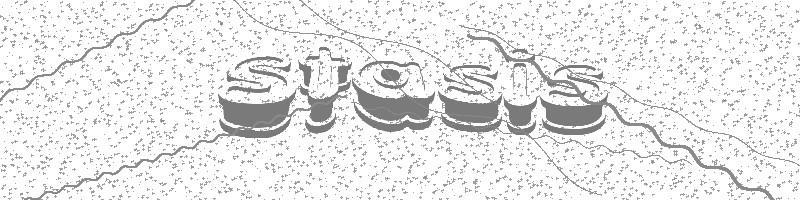a: (351, 56, 437, 134)
i: (504, 45, 538, 133)
s: (215, 51, 298, 140), (539, 61, 610, 136), (439, 61, 501, 130)
t: (297, 42, 353, 136)
